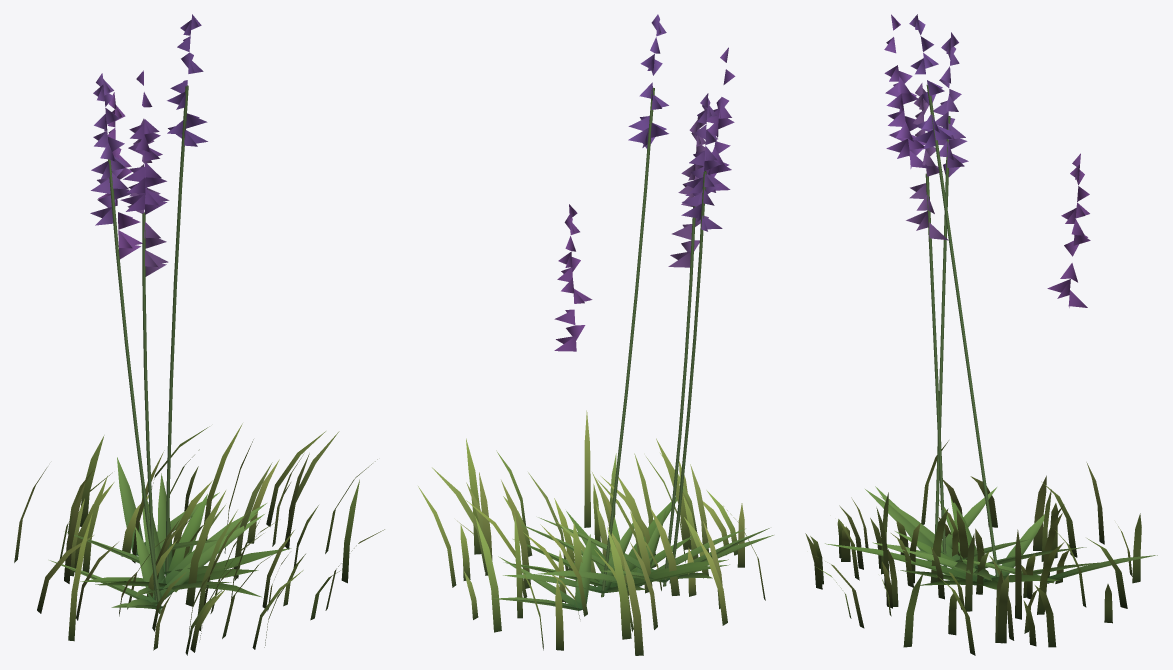
Rendered from eco_flower_spike_clump_LOD1.glb.
3 renders of one model, left to right at view 1: azimuth 30°, elevation 25°; view 2: azimuth 150°, elevation 25°; view 3: azimuth 270°, elevation 25°, orthographic. The views are drawn at different scales.
Visible parts, largest first — view 1: eco_flower_spike_clump_LOD1; view 2: eco_flower_spike_clump_LOD1; view 3: eco_flower_spike_clump_LOD1.
Part boxes in pixels (left/top/right/bottom): eco_flower_spike_clump_LOD1: left=14, top=14, right=384, bottom=655; eco_flower_spike_clump_LOD1: left=418, top=14, right=773, bottom=655; eco_flower_spike_clump_LOD1: left=805, top=14, right=1157, bottom=655.
Bounding box in the file's own units: 0.4545 × 0.82 × 0.4656.
